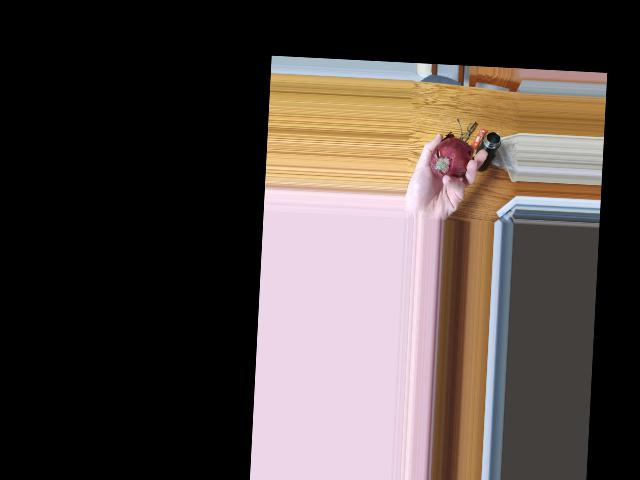onion: (426, 137, 467, 184)
